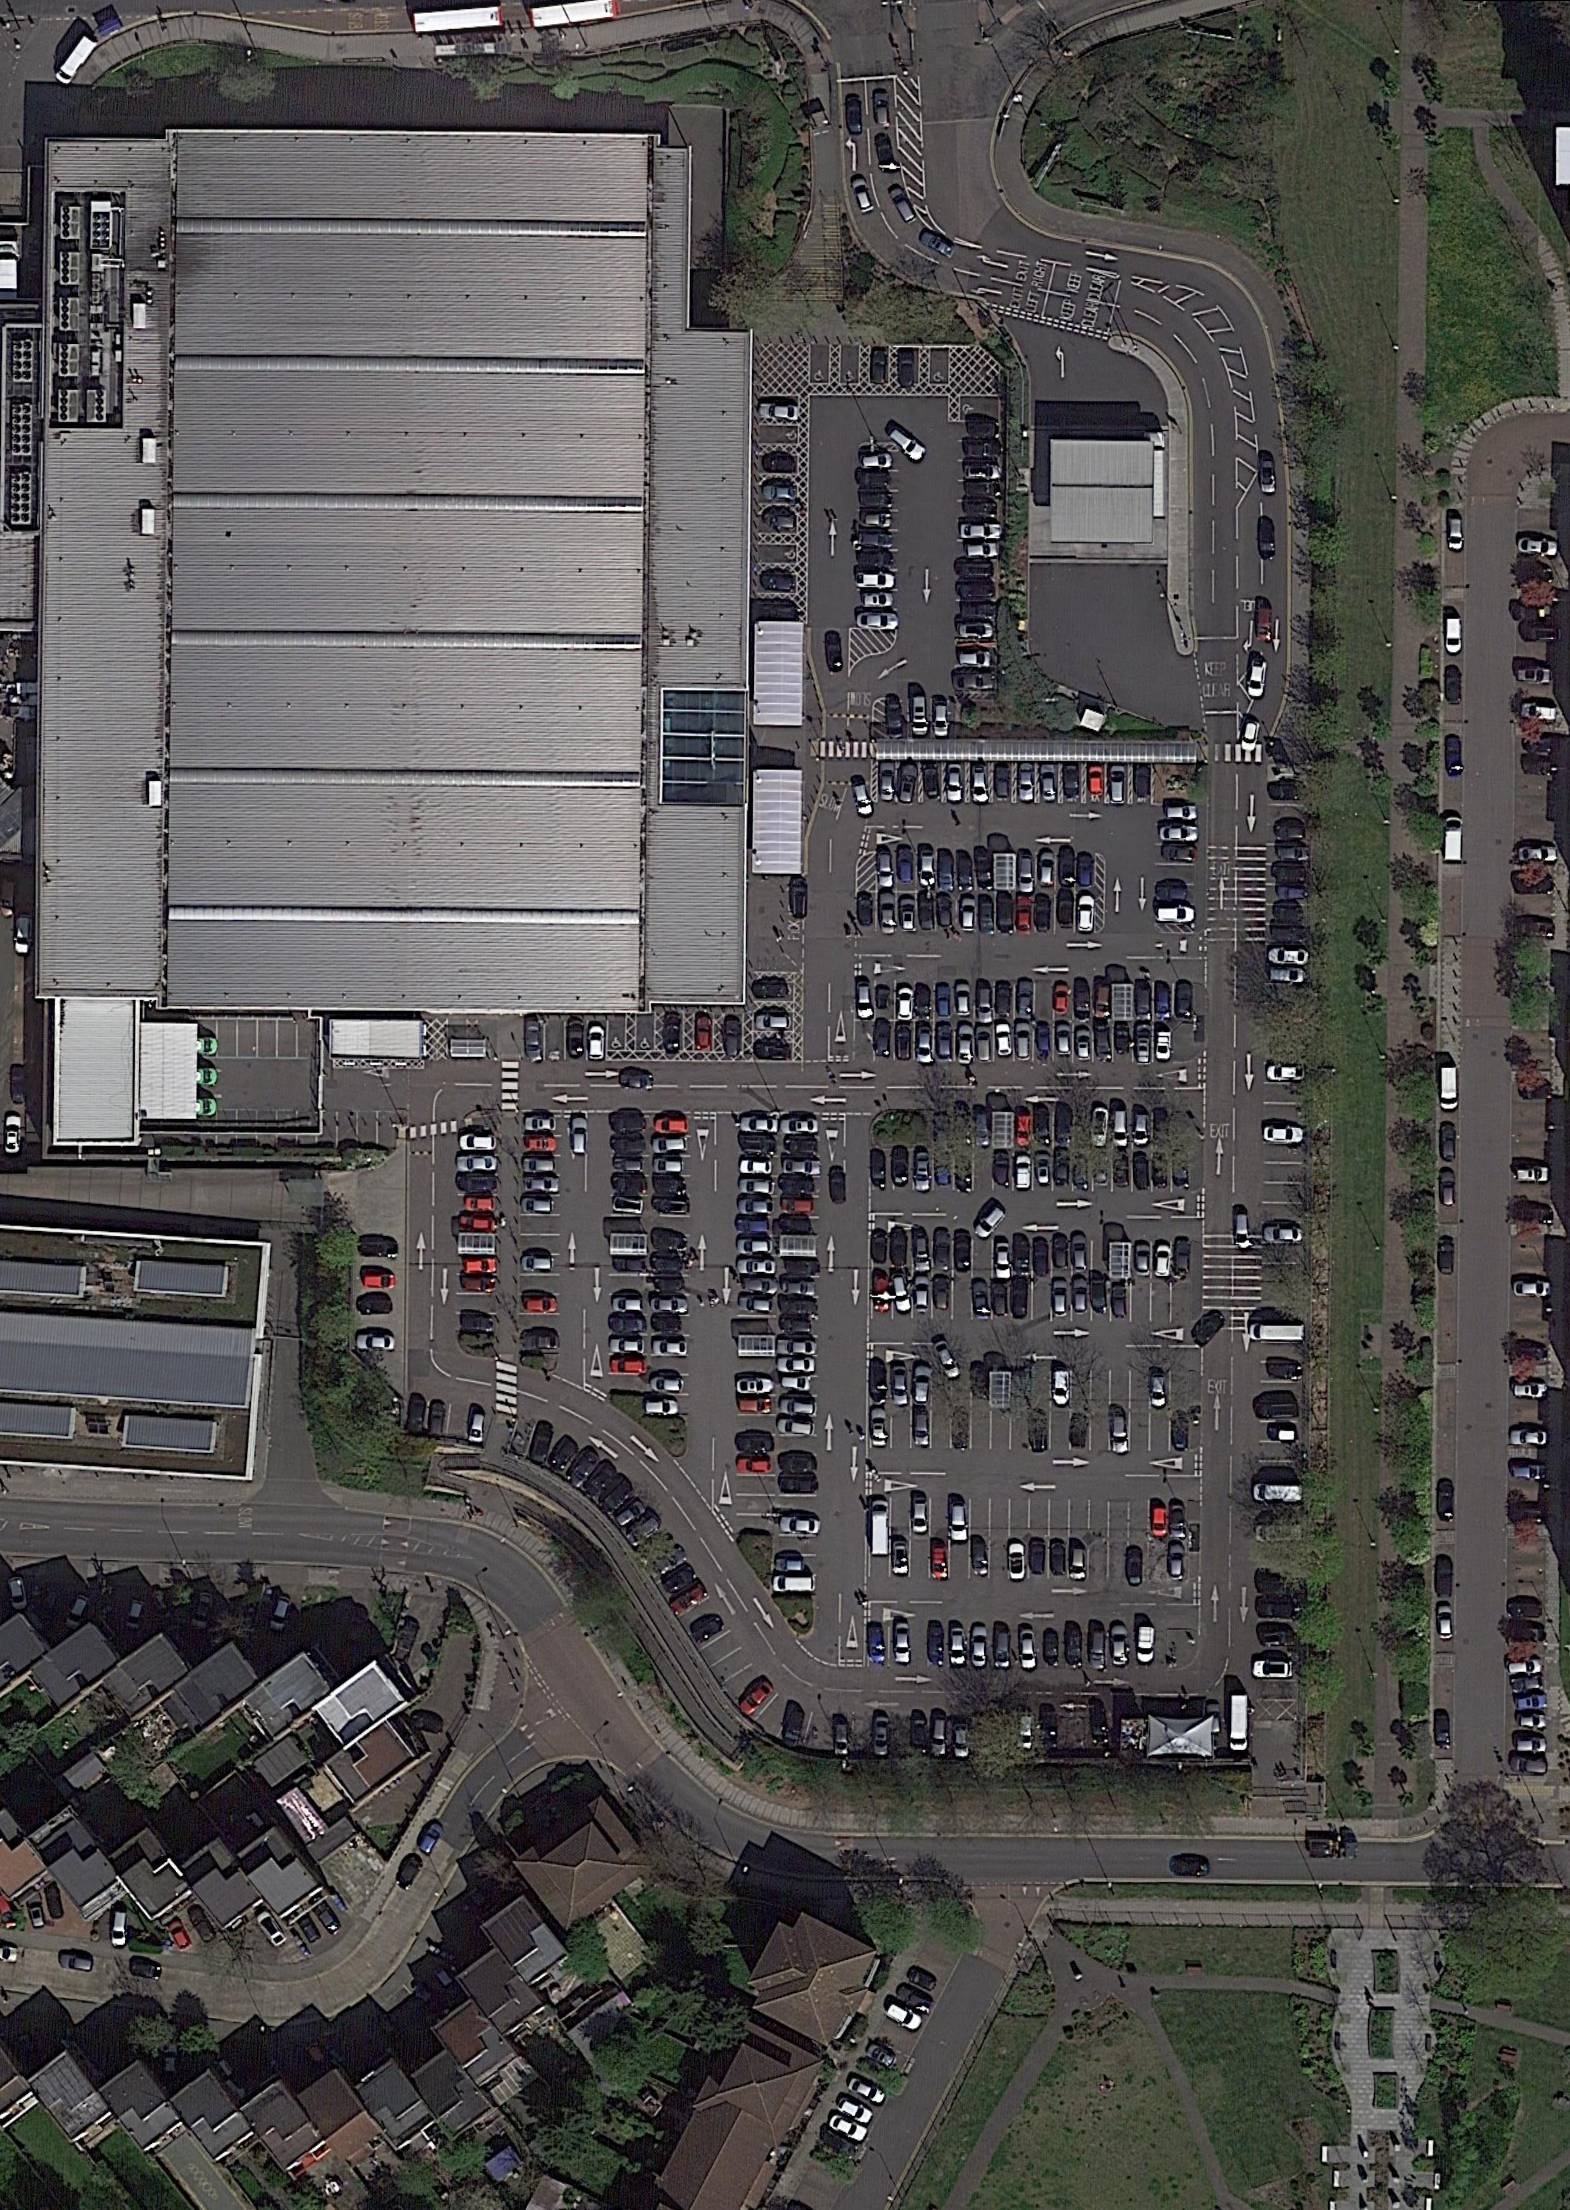large vehicle: (411, 5, 506, 37), (528, 2, 622, 34), (1307, 1836, 1358, 1860)
small vehicle: (53, 32, 100, 90), (595, 1474, 639, 1520), (562, 1446, 603, 1493), (734, 1677, 777, 1721), (884, 425, 929, 465), (642, 1542, 690, 1581), (579, 1459, 620, 1503), (306, 1892, 345, 1938), (620, 1512, 664, 1551), (666, 1580, 710, 1619), (826, 2111, 872, 2149), (253, 1908, 291, 1952), (1189, 1310, 1228, 1350), (545, 1434, 583, 1476), (846, 2072, 889, 2110), (885, 183, 921, 226), (527, 1418, 557, 1468), (931, 1339, 965, 1383), (185, 1903, 219, 1947), (1254, 1570, 1308, 1597), (659, 1563, 700, 1598), (974, 1203, 1009, 1243), (884, 2001, 926, 2035), (1251, 1481, 1307, 1507), (780, 1705, 809, 1755), (612, 1497, 649, 1534), (918, 226, 958, 260), (894, 1982, 935, 2016), (834, 2096, 877, 2128), (1228, 1694, 1251, 1755), (416, 1818, 449, 1858), (870, 1498, 892, 1558), (189, 1588, 216, 1636), (690, 1614, 727, 1648), (394, 1853, 426, 1892), (63, 1592, 93, 1632), (850, 173, 878, 216), (895, 759, 921, 807), (12, 912, 37, 960), (1108, 1407, 1132, 1457), (163, 1916, 195, 1953), (863, 2040, 901, 2072), (1443, 815, 1466, 865), (1026, 1408, 1052, 1454), (889, 1271, 914, 1316), (1256, 1597, 1308, 1619), (872, 132, 899, 175), (267, 1593, 294, 1636), (1517, 535, 1562, 561), (1517, 698, 1562, 724), (1247, 1323, 1307, 1342), (850, 780, 877, 820), (1245, 656, 1269, 702), (865, 1621, 889, 1666), (1252, 1400, 1302, 1422), (1252, 1522, 1305, 1542), (651, 1228, 690, 1255), (1516, 843, 1560, 866), (404, 1395, 428, 1439), (24, 1887, 48, 1931), (1262, 1123, 1307, 1147), (1052, 1102, 1076, 1147), (953, 1023, 977, 1067), (929, 1712, 952, 1760), (912, 1362, 936, 1407), (294, 1913, 325, 1947), (122, 1597, 150, 1634), (952, 671, 997, 693), (1087, 1627, 1110, 1673), (1437, 1067, 1460, 1113), (771, 1575, 817, 1597), (1050, 1366, 1074, 1408), (1087, 1705, 1111, 1748), (1169, 1855, 1211, 1879), (1512, 1203, 1555, 1226), (778, 1395, 821, 1418), (7, 1575, 32, 1614), (523, 1019, 545, 1063), (1443, 734, 1465, 778), (788, 877, 810, 921), (758, 401, 802, 423), (948, 1500, 970, 1544), (992, 1627, 1014, 1672), (1257, 1627, 1302, 1649), (1261, 1221, 1305, 1243), (1264, 1062, 1308, 1084), (1432, 1554, 1454, 1598), (778, 1515, 822, 1537), (1089, 1106, 1111, 1150), (459, 1213, 500, 1237), (466, 1408, 489, 1449), (736, 1293, 777, 1316), (1111, 1622, 1132, 1670), (42, 1880, 66, 1921), (777, 1417, 817, 1440), (663, 1011, 685, 1053), (955, 579, 997, 601), (969, 763, 991, 805), (974, 851, 996, 894), (1036, 849, 1059, 892), (1154, 904, 1196, 926), (1014, 978, 1036, 1021), (974, 984, 996, 1026), (1014, 1711, 1036, 1753), (950, 1408, 972, 1451), (1509, 1755, 1551, 1777), (1509, 1425, 1551, 1447), (912, 1233, 935, 1276), (1266, 946, 1312, 967), (1517, 623, 1563, 644), (969, 1626, 989, 1672), (907, 1965, 940, 1994), (743, 1276, 782, 1300), (969, 1541, 992, 1580), (651, 1250, 686, 1276), (610, 1174, 651, 1196), (692, 1012, 714, 1053), (751, 978, 792, 1001), (459, 1131, 500, 1153), (455, 1155, 500, 1175), (3, 1113, 24, 1157), (1266, 781, 1310, 802), (1443, 617, 1465, 657), (1522, 736, 1563, 758), (782, 1135, 822, 1157), (518, 1332, 562, 1352), (878, 759, 899, 803), (878, 892, 899, 936), (885, 696, 906, 741), (856, 610, 901, 630), (824, 630, 844, 674), (955, 620, 996, 642), (1072, 980, 1093, 1024), (957, 647, 997, 669), (1016, 851, 1036, 895), (1055, 890, 1077, 931), (1076, 894, 1098, 934), (1018, 1627, 1038, 1672), (1087, 1276, 1110, 1316), (970, 1277, 992, 1318), (1252, 1660, 1296, 1680), (1505, 1656, 1546, 1678), (1512, 1277, 1553, 1300), (1436, 1480, 1456, 1524), (872, 1019, 894, 1060), (953, 1150, 974, 1194), (933, 1228, 953, 1272), (777, 1474, 821, 1495), (872, 1716, 892, 1760), (890, 1364, 911, 1408), (868, 1362, 889, 1407), (929, 1541, 952, 1581), (1271, 904, 1308, 927), (652, 1174, 690, 1198), (644, 1396, 681, 1420), (127, 1959, 165, 1982), (1266, 965, 1308, 985), (778, 1298, 821, 1318), (936, 851, 957, 894), (855, 571, 897, 591), (1159, 824, 1201, 844), (855, 980, 875, 1023), (1137, 1624, 1157, 1666), (912, 1150, 933, 1192), (1133, 1023, 1154, 1065), (754, 1041, 793, 1063), (652, 1114, 692, 1136), (651, 1135, 690, 1157), (1172, 980, 1194, 1019), (1274, 883, 1313, 905), (783, 1259, 822, 1281), (426, 1400, 449, 1439), (958, 600, 997, 622), (958, 895, 980, 934), (963, 438, 1002, 460), (963, 540, 1002, 562), (760, 572, 799, 595), (952, 1108, 974, 1147), (1511, 1379, 1550, 1401), (931, 1109, 953, 1148), (568, 1016, 586, 1062), (958, 521, 1004, 540), (911, 695, 929, 741), (894, 1621, 912, 1666), (928, 1622, 946, 1668), (1239, 719, 1262, 754), (1257, 521, 1278, 562), (1257, 454, 1278, 494), (1444, 666, 1465, 707), (1516, 666, 1556, 686), (357, 1332, 398, 1352), (608, 1315, 649, 1335), (1093, 982, 1113, 1023), (918, 892, 938, 933), (963, 462, 1004, 482), (1108, 764, 1128, 805), (996, 894, 1016, 934), (1014, 894, 1035, 934), (1008, 1541, 1028, 1581), (1028, 1537, 1048, 1578), (1125, 1546, 1145, 1587), (1167, 1541, 1188, 1581), (953, 1232, 974, 1272), (1009, 1277, 1030, 1318), (1050, 1277, 1070, 1318), (1432, 1711, 1453, 1751), (1266, 1361, 1307, 1381), (914, 1024, 935, 1065), (890, 1147, 911, 1187), (736, 1434, 777, 1454), (872, 1272, 892, 1313), (912, 1408, 933, 1449), (912, 1274, 933, 1315), (868, 1407, 889, 1447), (586, 1024, 608, 1062), (455, 1175, 500, 1194), (1276, 843, 1313, 865), (741, 1135, 778, 1157), (918, 848, 936, 892), (1059, 846, 1077, 890), (1069, 1412, 1091, 1449), (1035, 1104, 1053, 1148), (58, 1952, 95, 1974), (992, 1023, 1014, 1060), (775, 1357, 819, 1376), (1093, 1024, 1115, 1062), (569, 1118, 590, 1157), (523, 1175, 562, 1196), (608, 1114, 647, 1135), (1133, 985, 1154, 1024), (741, 1114, 780, 1135), (736, 1198, 775, 1218), (736, 1237, 775, 1257), (460, 1274, 500, 1294), (608, 1335, 647, 1356), (875, 849, 895, 888), (868, 347, 889, 386), (856, 550, 895, 571), (1161, 844, 1200, 865), (1149, 1371, 1169, 1410), (1171, 1412, 1191, 1451), (1150, 1152, 1171, 1191), (1171, 1148, 1191, 1187), (1154, 1242, 1174, 1281), (110, 1911, 131, 1950), (1507, 1624, 1546, 1644), (1437, 1169, 1458, 1208), (1511, 1461, 1550, 1481), (894, 1023, 914, 1062), (935, 1023, 955, 1062), (890, 1228, 911, 1267), (780, 1452, 819, 1473), (1014, 1023, 1035, 1062), (890, 1541, 911, 1580), (724, 1014, 743, 1057), (753, 1012, 795, 1031), (736, 1259, 778, 1277), (357, 1242, 399, 1260), (962, 481, 1004, 499), (1018, 763, 1036, 805), (1040, 763, 1059, 805), (1040, 1711, 1059, 1753), (870, 1148, 889, 1191), (1111, 1109, 1130, 1152), (618, 1068, 654, 1091), (612, 1135, 647, 1157), (460, 1313, 496, 1335), (858, 489, 894, 511), (1509, 1673, 1545, 1695), (1269, 926, 1310, 944), (1271, 865, 1312, 883), (1273, 824, 1310, 844), (1521, 758, 1562, 776), (780, 1118, 821, 1136), (737, 1157, 775, 1177), (782, 1159, 822, 1177), (739, 1177, 777, 1198), (773, 1218, 814, 1237), (651, 1198, 692, 1216), (462, 1255, 500, 1276), (522, 1294, 559, 1315), (652, 1296, 690, 1316), (649, 1374, 686, 1395), (923, 761, 941, 802), (946, 763, 965, 803), (962, 499, 999, 520), (761, 482, 799, 503), (761, 511, 799, 532), (856, 530, 894, 550), (1062, 763, 1082, 800), (1133, 763, 1154, 800), (1035, 894, 1053, 934), (895, 985, 916, 1023), (970, 1364, 991, 1401), (1048, 1541, 1069, 1578), (1072, 1152, 1091, 1192), (1091, 1150, 1111, 1187), (1111, 1152, 1132, 1189), (1174, 1238, 1194, 1276), (1070, 1277, 1091, 1315), (952, 1721, 970, 1762), (1512, 1694, 1550, 1714), (1512, 1736, 1550, 1756), (1514, 1165, 1551, 1186), (777, 1339, 817, 1357), (975, 1026, 996, 1063), (829, 1169, 850, 1206), (992, 1150, 1013, 1187), (734, 1378, 775, 1396), (736, 1396, 773, 1417), (911, 1495, 929, 1536), (10, 1063, 27, 1108), (612, 1194, 646, 1216), (364, 1271, 398, 1293), (950, 1626, 967, 1670), (1065, 1626, 1082, 1670), (1256, 606, 1274, 646), (651, 1339, 690, 1357), (608, 1356, 647, 1374), (1155, 984, 1174, 1023), (901, 894, 919, 933), (957, 854, 975, 894), (955, 561, 994, 579), (855, 471, 894, 489), (1014, 1152, 1033, 1191), (1035, 1148, 1053, 1187), (1053, 1148, 1072, 1187), (1033, 1238, 1052, 1277), (1070, 1233, 1089, 1272), (1439, 1125, 1458, 1164), (1437, 1237, 1456, 1276), (935, 1148, 953, 1187), (911, 1717, 929, 1756), (780, 1196, 816, 1216), (782, 1277, 817, 1298), (761, 454, 797, 474), (860, 452, 895, 472), (860, 511, 895, 532), (860, 591, 895, 612), (992, 764, 1013, 800), (953, 982, 974, 1018), (1150, 1503, 1171, 1539), (1069, 1546, 1089, 1581), (1014, 1113, 1035, 1148), (1132, 1113, 1152, 1148), (933, 1276, 953, 1311), (933, 698, 950, 741), (846, 95, 863, 138), (518, 1254, 556, 1272), (897, 848, 916, 885), (1077, 853, 1096, 890), (977, 899, 996, 936), (996, 982, 1014, 1019), (1169, 1503, 1188, 1541), (974, 1111, 992, 1148), (1133, 1153, 1152, 1191), (1507, 1602, 1545, 1621), (736, 1457, 773, 1476), (523, 1113, 557, 1133), (466, 1194, 500, 1215), (612, 1294, 646, 1315), (899, 347, 916, 387), (1166, 803, 1200, 824), (1155, 883, 1189, 904), (996, 1242, 1013, 1283), (1014, 1237, 1031, 1277), (1074, 1028, 1094, 1062), (522, 1155, 557, 1174), (520, 1196, 556, 1215), (782, 1177, 817, 1196), (359, 1298, 394, 1316), (856, 892, 875, 927), (936, 894, 955, 929), (873, 92, 892, 127), (1053, 980, 1072, 1016), (935, 984, 953, 1019), (778, 1316, 814, 1335), (1111, 1283, 1130, 1318), (1135, 1242, 1154, 1277), (1234, 1213, 1252, 1249), (1055, 1023, 1074, 1058), (1448, 515, 1465, 554), (1509, 605, 1548, 622), (969, 421, 1001, 442), (834, 1719, 850, 1762), (523, 1135, 557, 1153), (612, 1155, 646, 1174), (652, 1157, 686, 1175), (734, 1216, 771, 1233), (1087, 764, 1106, 798), (1043, 1631, 1060, 1668), (991, 1283, 1009, 1316), (1516, 1712, 1550, 1731), (1266, 1424, 1300, 1442), (1113, 1023, 1132, 1057), (612, 1255, 647, 1272), (916, 985, 933, 1021), (1437, 1604, 1454, 1639), (651, 1315, 683, 1333), (1205, 1702, 1223, 1734), (780, 1374, 812, 1393), (652, 1276, 686, 1293), (1053, 1235, 1070, 1269), (872, 1230, 889, 1264), (1155, 1028, 1172, 1062), (775, 1558, 807, 1575), (1035, 1024, 1053, 1053)
